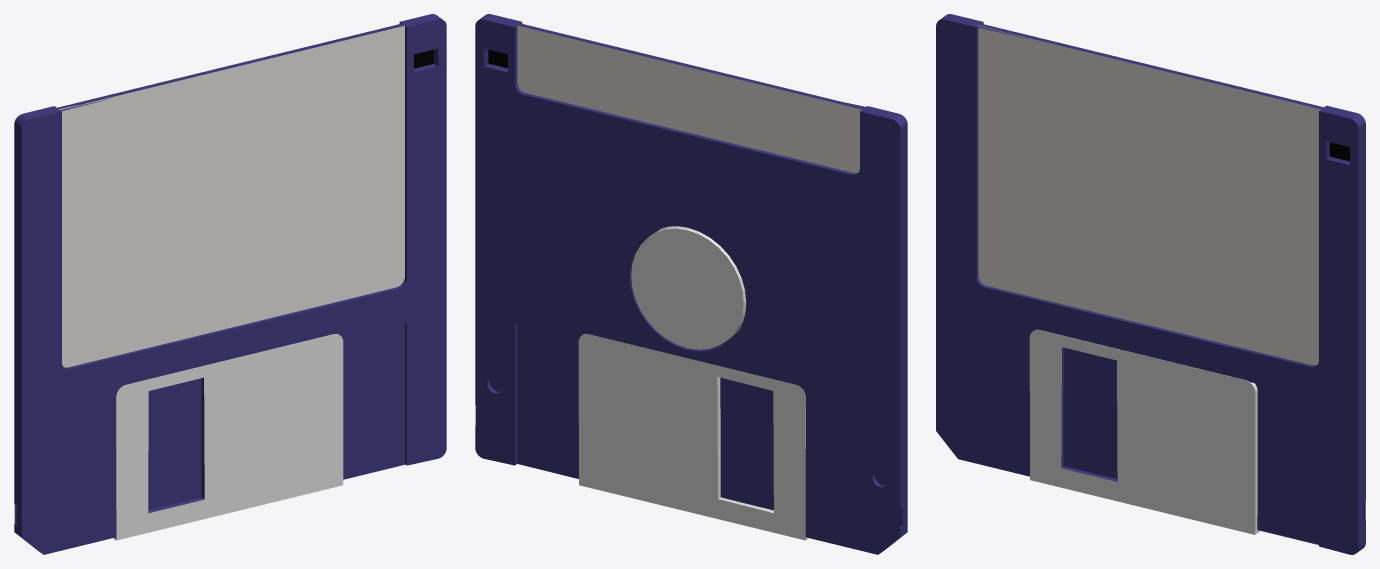
Rendered from PROPS_Save.glb.
3 renders of one model, left to right at view 1: azimuth 30°, elevation 25°; view 2: azimuth 150°, elevation 25°; view 3: azimuth 330°, elevation 25°, orthographic.
Visible parts, largest first — view 1: Cube016_3, Cube016, Cube016_1; view 2: Cube016, Cube016_1, Cube016_3; view 3: Cube016_3, Cube016, Cube016_1.
Boxes of the visible parts, left/top/right/bottom form: Cube016_3: left=58, top=25, right=404, bottom=367; Cube016: left=14, top=14, right=446, bottom=554; Cube016_1: left=113, top=334, right=343, bottom=540; Cube016: left=475, top=14, right=907, bottom=554; Cube016_1: left=578, top=226, right=808, bottom=540; Cube016_3: left=517, top=25, right=861, bottom=173; Cube016_3: left=976, top=24, right=1320, bottom=365; Cube016: left=936, top=14, right=1365, bottom=554; Cube016_1: left=1029, top=329, right=1259, bottom=534.
Bounding box in the file's own units: 5.1 × 5.07 × 0.1679.
